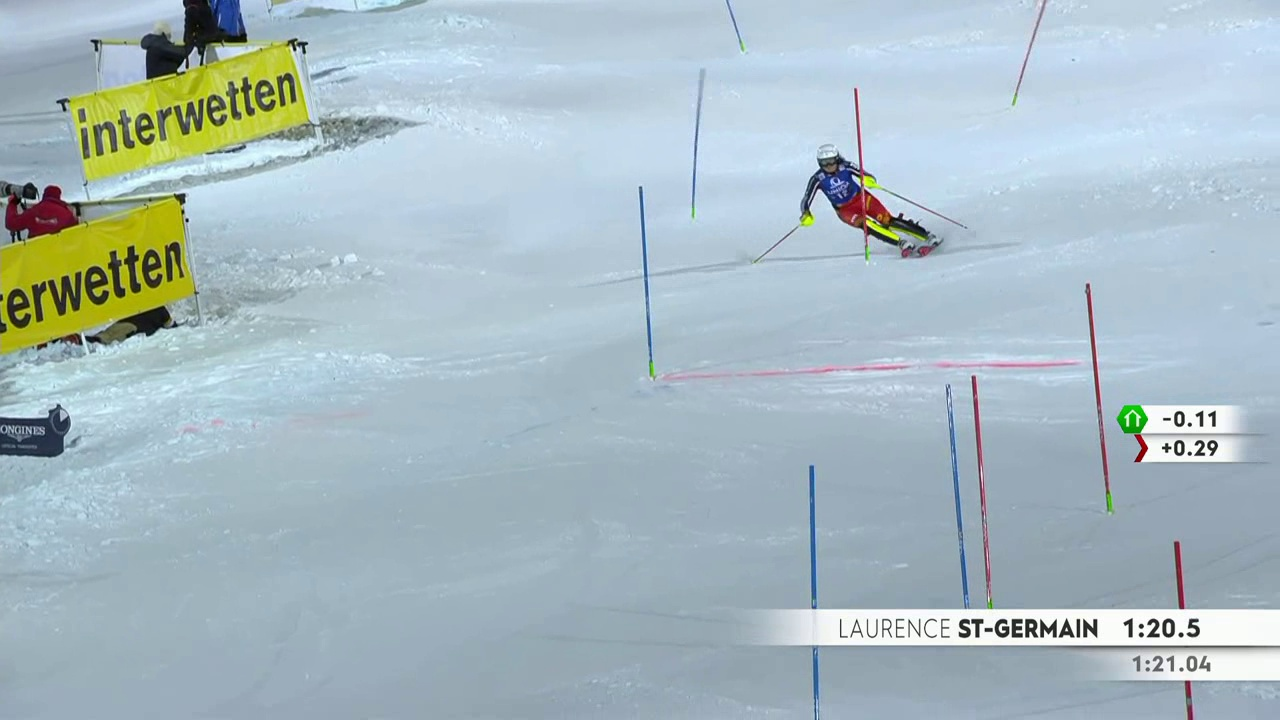raiffeisen: (74, 52, 307, 182), (1, 227, 195, 349)
